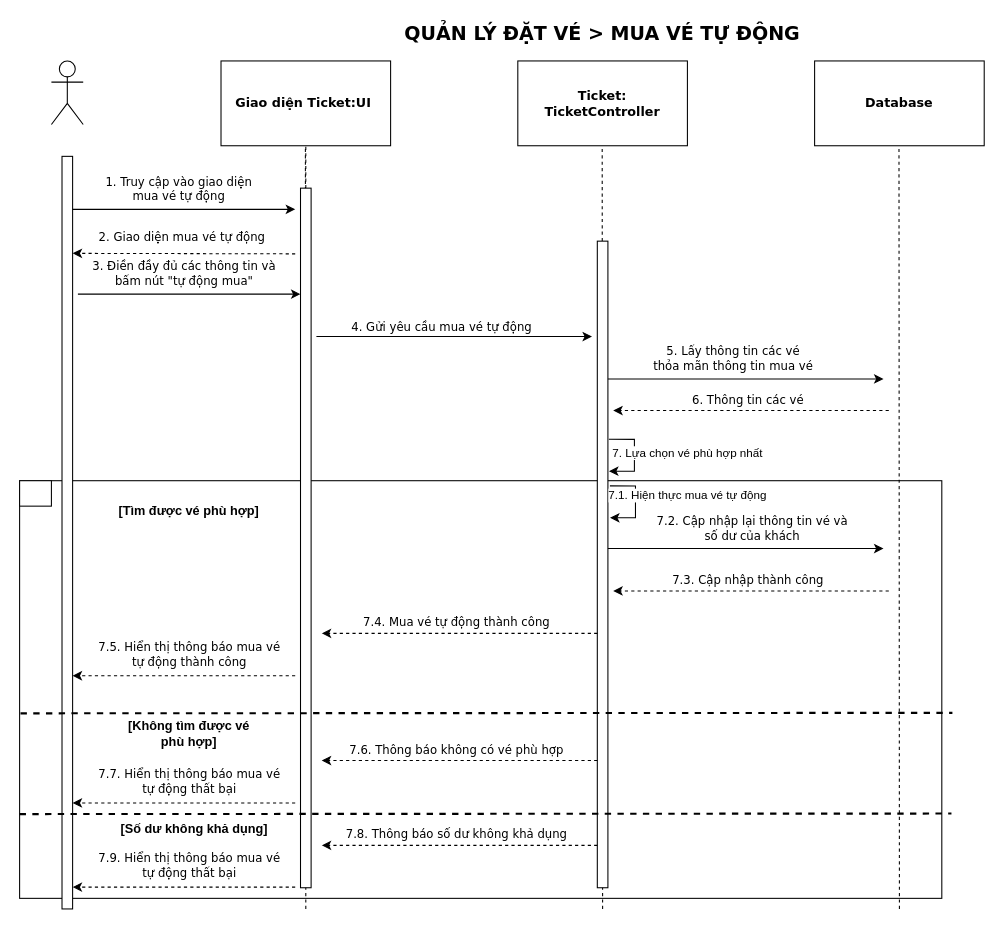
Image size: 1003x929. Some labels were removed from this diagram. Each missing label, with the centre of its shape:
"Alt" goes at pixel 35 493.
"User" goes at pixel 66 92.
